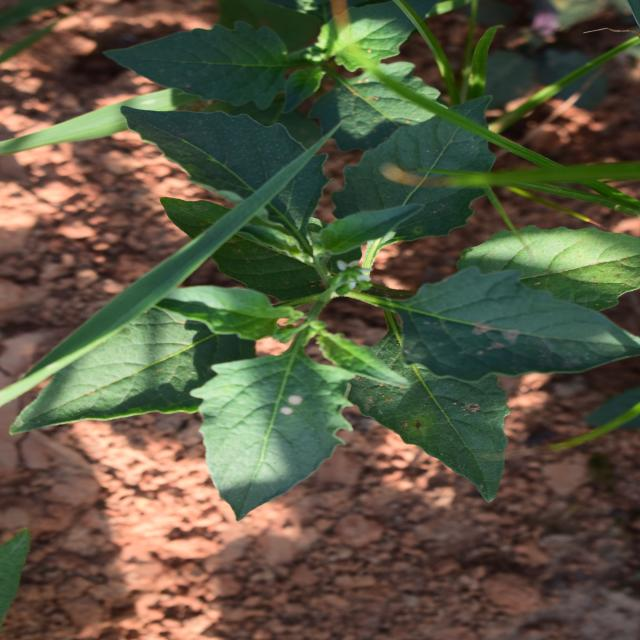Black_nightshade: (174, 72, 529, 592)
